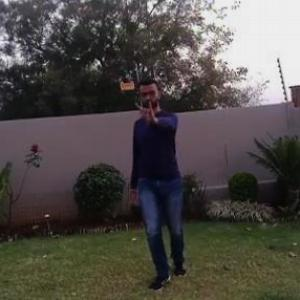takeoff-hand: (130, 94, 164, 134)
